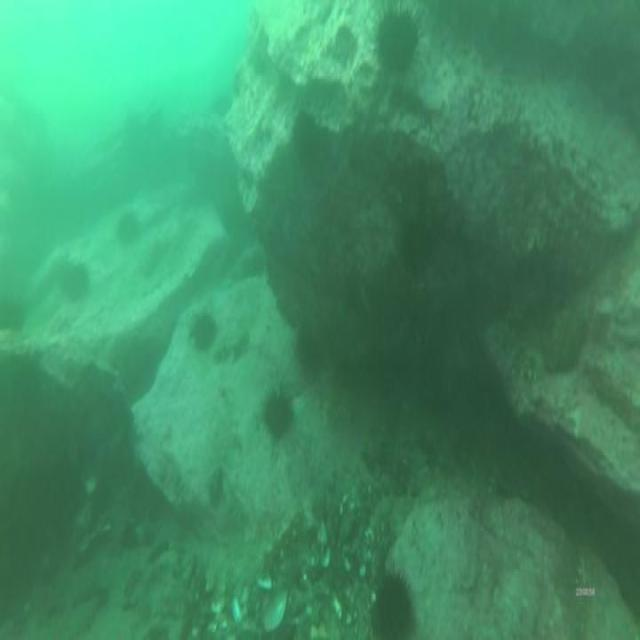echinus: (372, 575, 412, 640), (377, 12, 417, 72), (264, 390, 290, 436), (62, 267, 90, 297), (191, 314, 213, 351), (118, 212, 139, 242)
holothurian: (492, 321, 542, 382)
